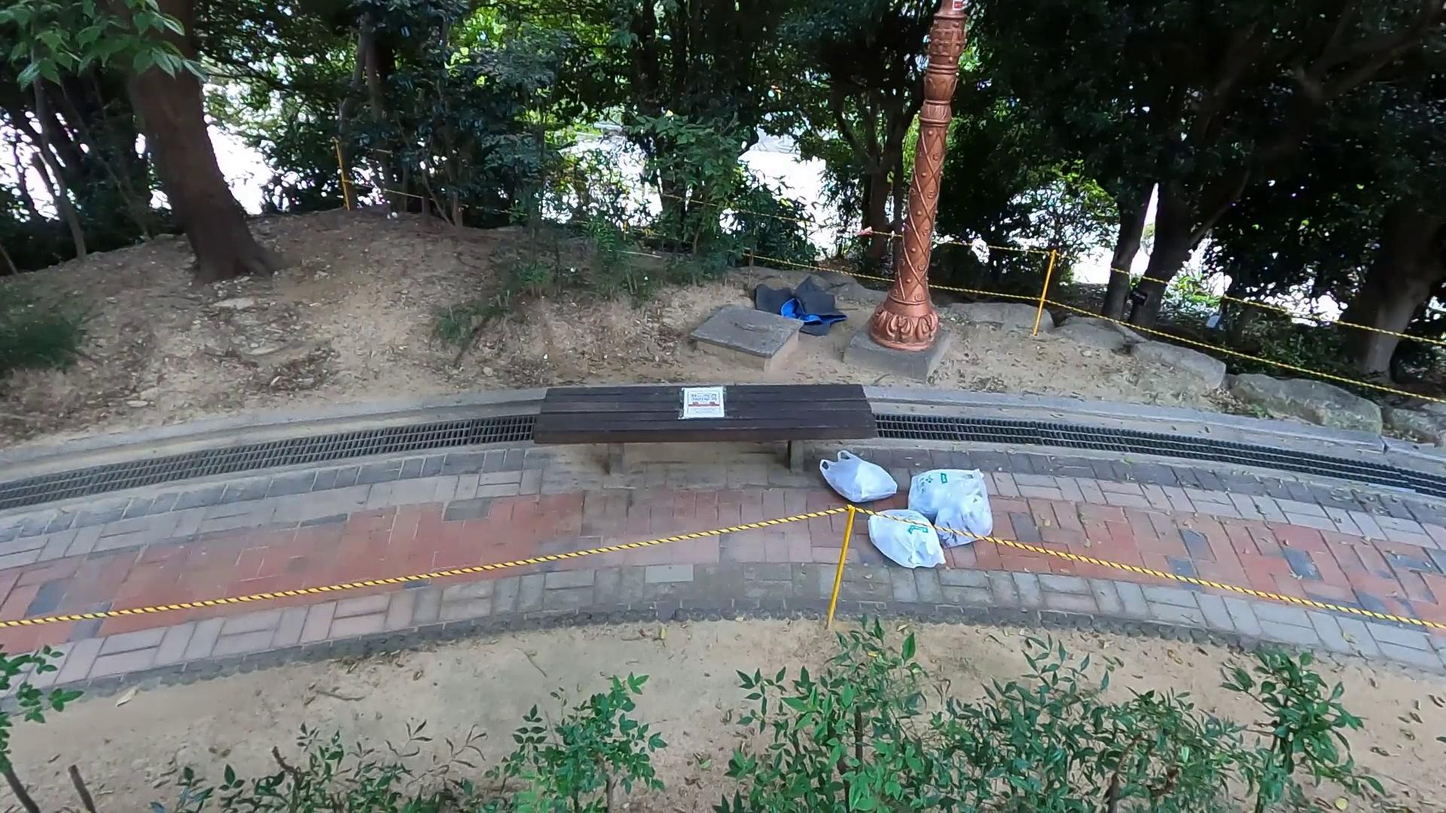trash: (754, 277, 847, 335), (868, 507, 949, 571), (933, 476, 995, 547), (820, 447, 898, 503), (909, 468, 983, 519)
